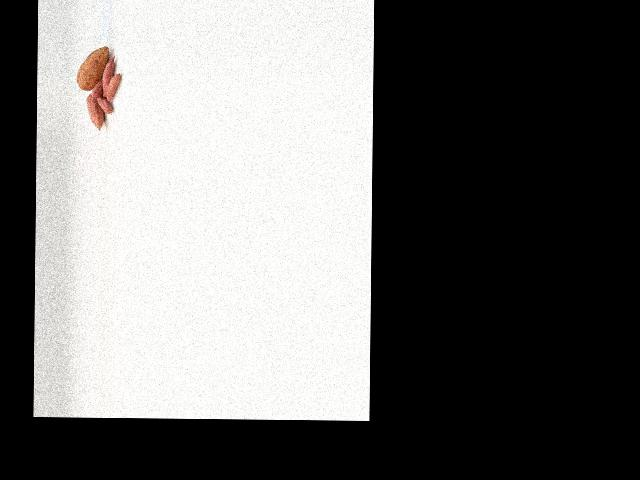sweet_potato: (86, 94, 104, 131)
